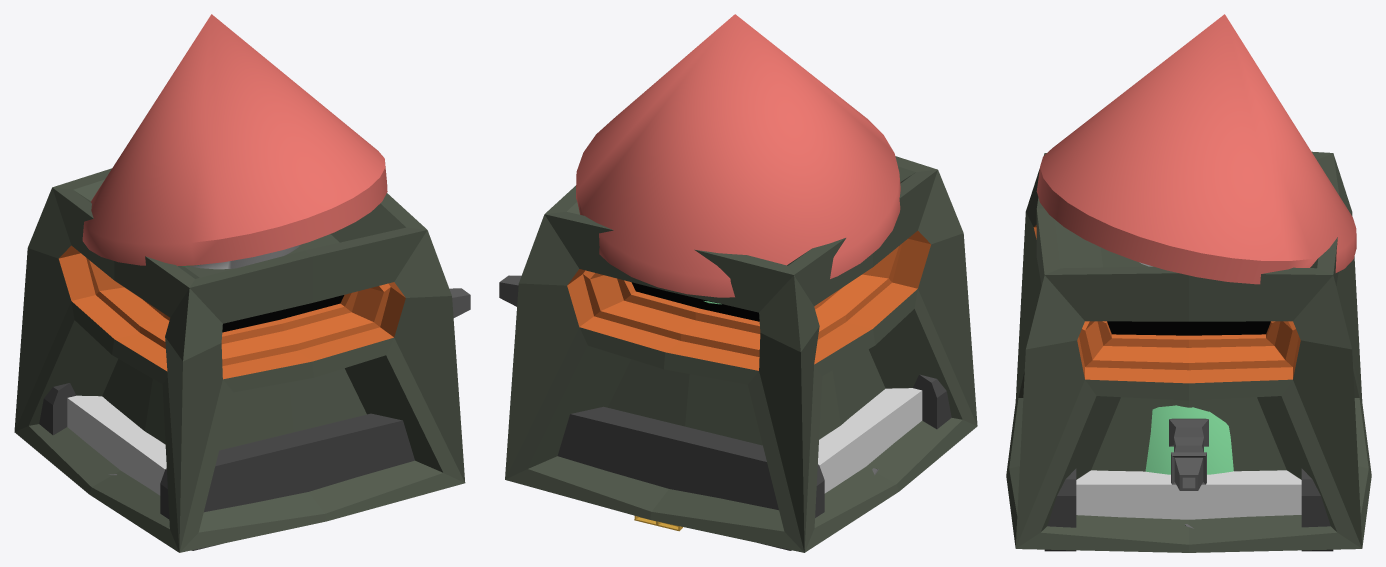
Rendered from towers.fbx.
The picture shows the model from 3 angles, left to right: view 1: azimuth 30°, elevation 25°; view 2: azimuth 150°, elevation 25°; view 3: azimuth 270°, elevation 25°; orthographic projection. The views are drawn at different scales.
Parts seen in each view (by area): view 1: archerytower, magetower, tank.001; view 2: archerytower, magetower, tank.001; view 3: archerytower, magetower, tank.001, tankweap.
Boxes of the visible parts, x1,y1,x2,y2 form: archerytower: (14, 168, 465, 552); magetower: (82, 14, 387, 269); tank.001: (39, 383, 414, 550); archerytower: (505, 156, 977, 552); magetower: (576, 14, 900, 304); tank.001: (557, 374, 951, 550); archerytower: (1006, 151, 1371, 552); magetower: (1036, 14, 1356, 474); tank.001: (1044, 468, 1333, 551); tankweap: (1169, 418, 1208, 490).
Size of what is drawn, in the model's own units: 9.5 by 11.25 by 7.6.
